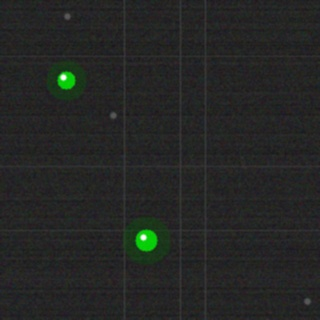green_normal: (133, 227, 159, 253), (55, 69, 77, 91)
